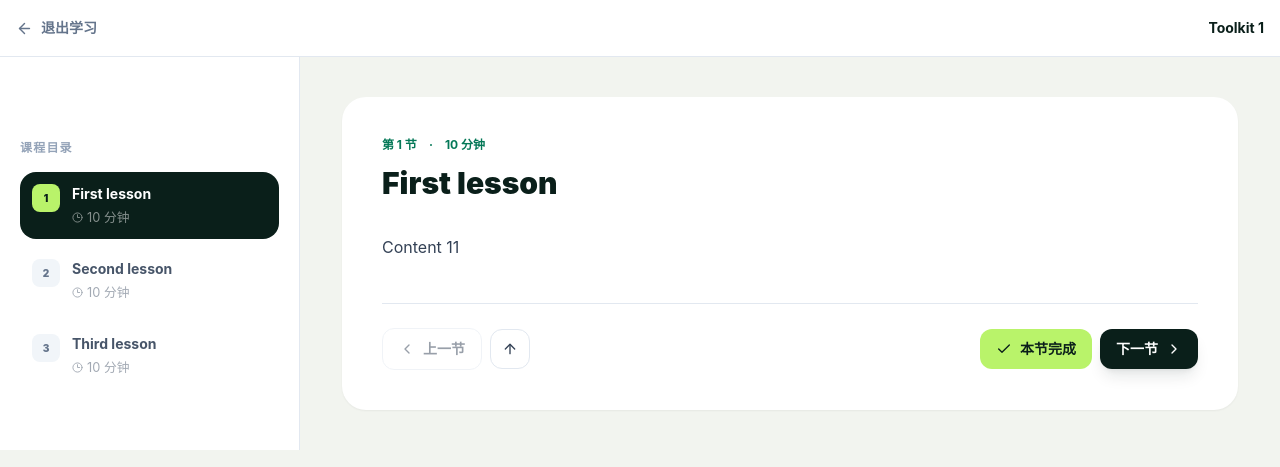
learning space › manual selection cannot be moved by an old completion callback
Expected: the heading "First lesson" is shown, [382,165,558,201]
Click the button "下一节" at (1149, 349), box [1100,329,1198,369]
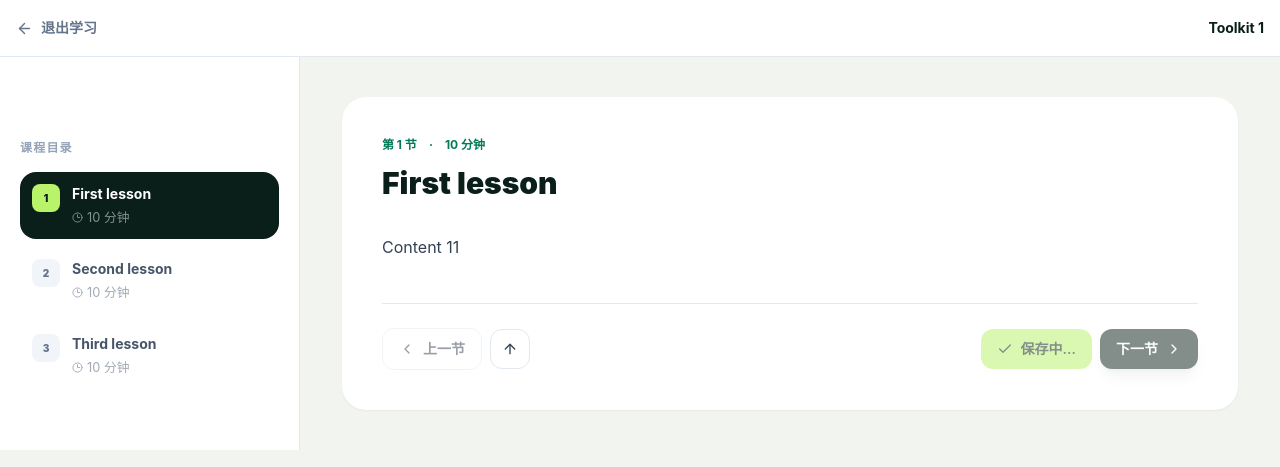
Click the button "3 Third lesson 10 分钟" at (150, 356), box [20,322,279,390]
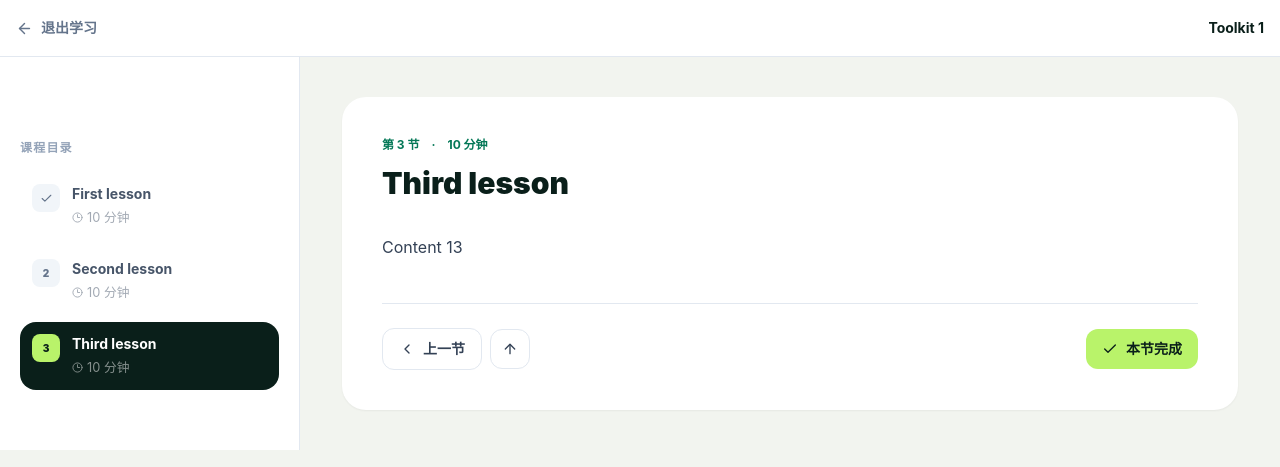
Expected: the heading "Third lesson" is shown, [382,165,569,201]
